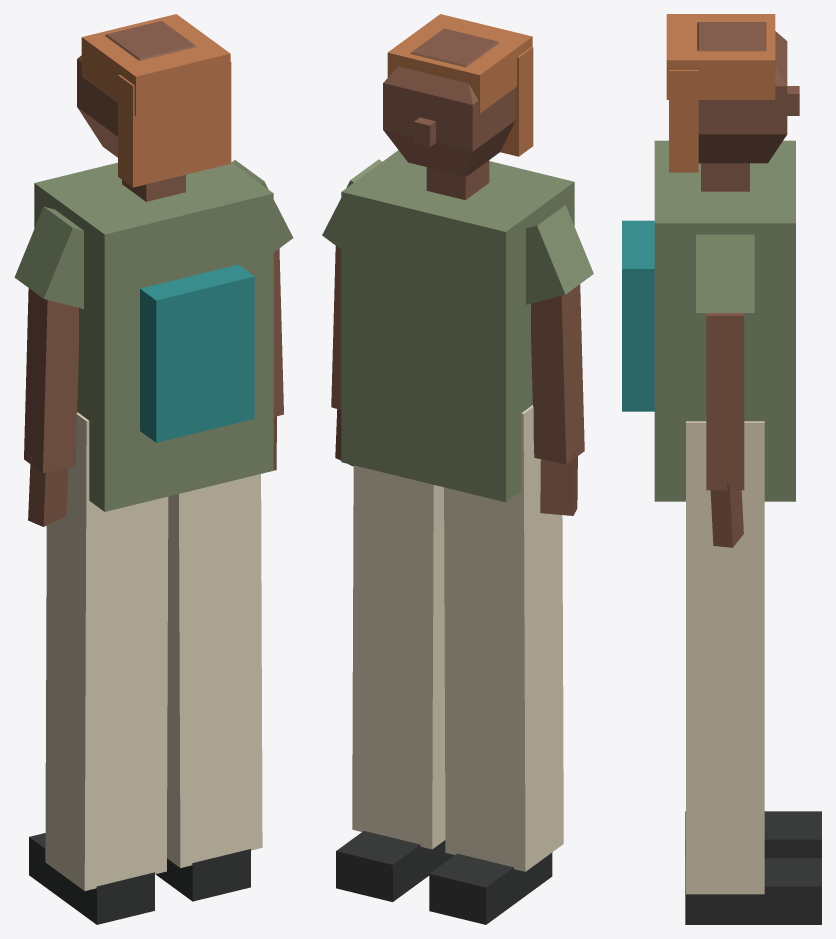
File: pedestrian_06.glb
The picture shows the model from 3 angles, left to right: view 1: azimuth 30°, elevation 25°; view 2: azimuth 150°, elevation 25°; view 3: azimuth 270°, elevation 25°; orthographic projection. The views are drawn at different scales.
Visible parts, largest first — view 1: pedestrian_06 crowd_trousers, pedestrian_06 crowd_shirt, pedestrian_06 crowd_rubber, Backpack, pedestrian_06 crowd_skin; view 2: pedestrian_06 crowd_trousers, pedestrian_06 crowd_shirt, pedestrian_06 crowd_skin, pedestrian_06 crowd_rubber; view 3: pedestrian_06 crowd_shirt, pedestrian_06 crowd_trousers, pedestrian_06 crowd_rubber, pedestrian_06 crowd_skin, Backpack.
Boxes of the visible parts, box(x1,y1,x2,y2) form: pedestrian_06 crowd_trousers: box(45, 412, 262, 890); pedestrian_06 crowd_shirt: box(14, 160, 293, 511); pedestrian_06 crowd_rubber: box(29, 14, 250, 924); Backpack: box(140, 264, 254, 442); pedestrian_06 crowd_skin: box(24, 21, 283, 526); pedestrian_06 crowd_trousers: box(352, 405, 563, 871); pedestrian_06 crowd_shirt: box(322, 150, 593, 502); pedestrian_06 crowd_skin: box(331, 28, 584, 515); pedestrian_06 crowd_rubber: box(336, 14, 552, 924); pedestrian_06 crowd_shirt: box(654, 140, 795, 501); pedestrian_06 crowd_trousers: box(686, 421, 764, 894); pedestrian_06 crowd_rubber: box(666, 14, 821, 924); pedestrian_06 crowd_skin: box(697, 22, 799, 547); Backpack: box(622, 220, 654, 411).
Size of the model in its own units: 0.527 by 1.71 by 0.3638.
